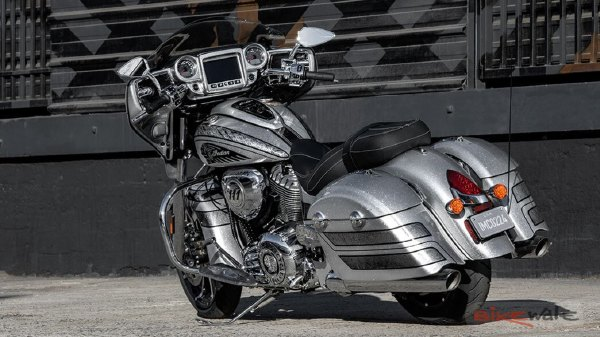number_plate: (462, 206, 519, 243)
